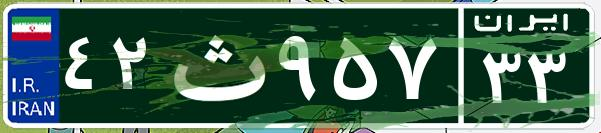2: (110, 28, 158, 105)
3: (475, 38, 525, 113), (525, 38, 570, 115)
4: (57, 26, 110, 107)
5: (330, 28, 385, 110)
7: (385, 28, 445, 110)
9: (273, 28, 330, 110)
ث: (158, 15, 273, 115)
